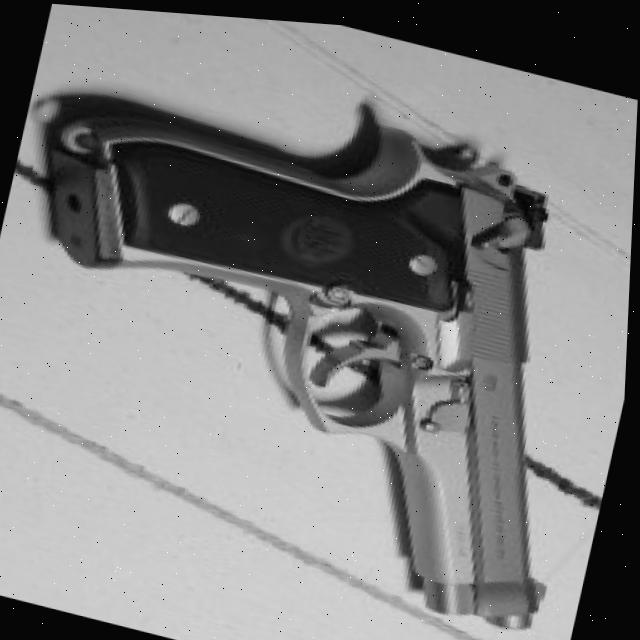pistol: (0, 36, 639, 636)
